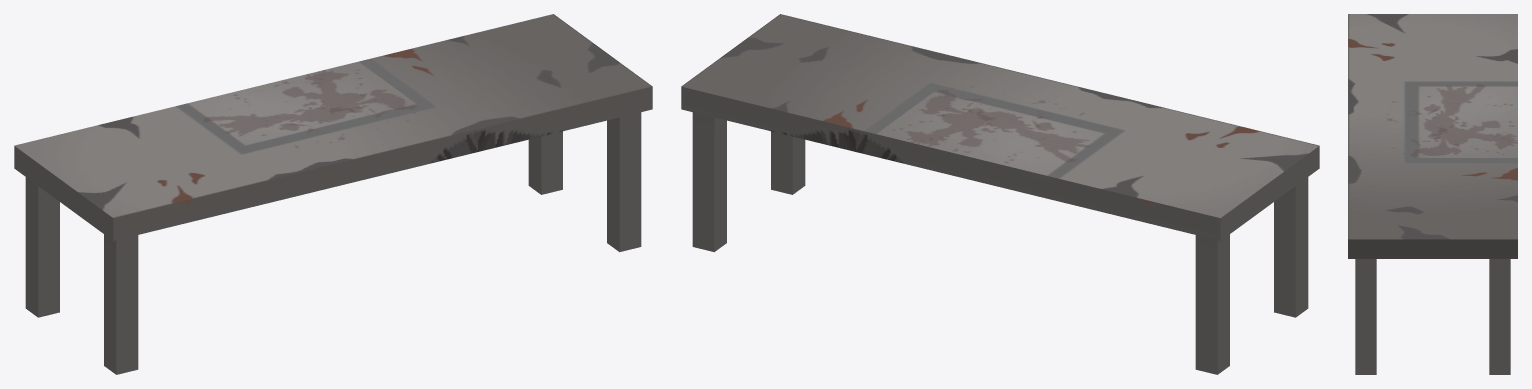
Rendered from Building_AncientTableButcher.glb.
3 renders of one model, left to right at view 1: azimuth 30°, elevation 25°; view 2: azimuth 150°, elevation 25°; view 3: azimuth 270°, elevation 25°, orthographic. The views are drawn at different scales.
Parts seen in each view (by area): view 1: AncientTableButcher; view 2: AncientTableButcher; view 3: AncientTableButcher.
Part boxes in pixels (left/top/right/bottom): AncientTableButcher: left=14, top=14, right=652, bottom=374; AncientTableButcher: left=681, top=14, right=1319, bottom=374; AncientTableButcher: left=1348, top=14, right=1517, bottom=374.
Size of the model in its own units: 2.97 by 0.85 by 0.9453.
Materials: 1 (1 with a texture image).
